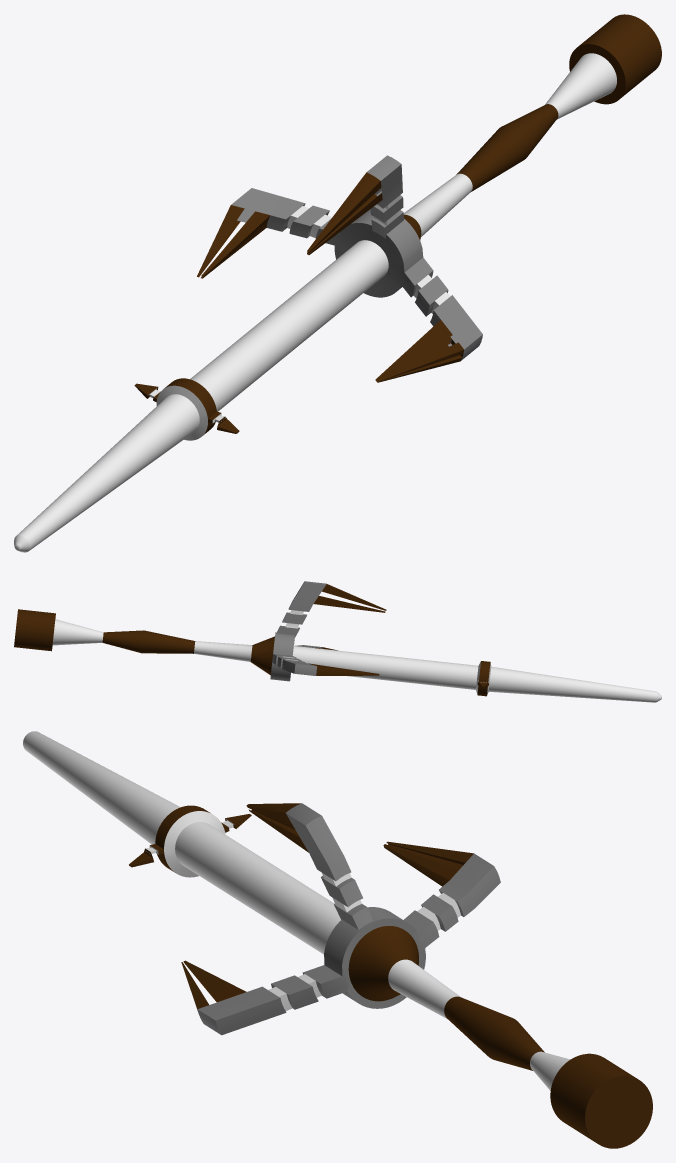
The model's file is sword_animation2.fbx.
3 views of the same model, one above another, from view 1: azimuth 30°, elevation 25°; view 2: azimuth 150°, elevation 25°; view 3: azimuth 270°, elevation 25° (orthographic). The views are drawn at different scales.
Parts seen in each view (by area): view 1: Cylinder; view 2: Cylinder; view 3: Cylinder.
Boxes of the visible parts, x1,y1,x2,y2 form: Cylinder: [14, 14, 661, 552]; Cylinder: [14, 581, 661, 702]; Cylinder: [23, 731, 652, 1148].
Size of the model in its own units: 1256 by 248 by 677.
